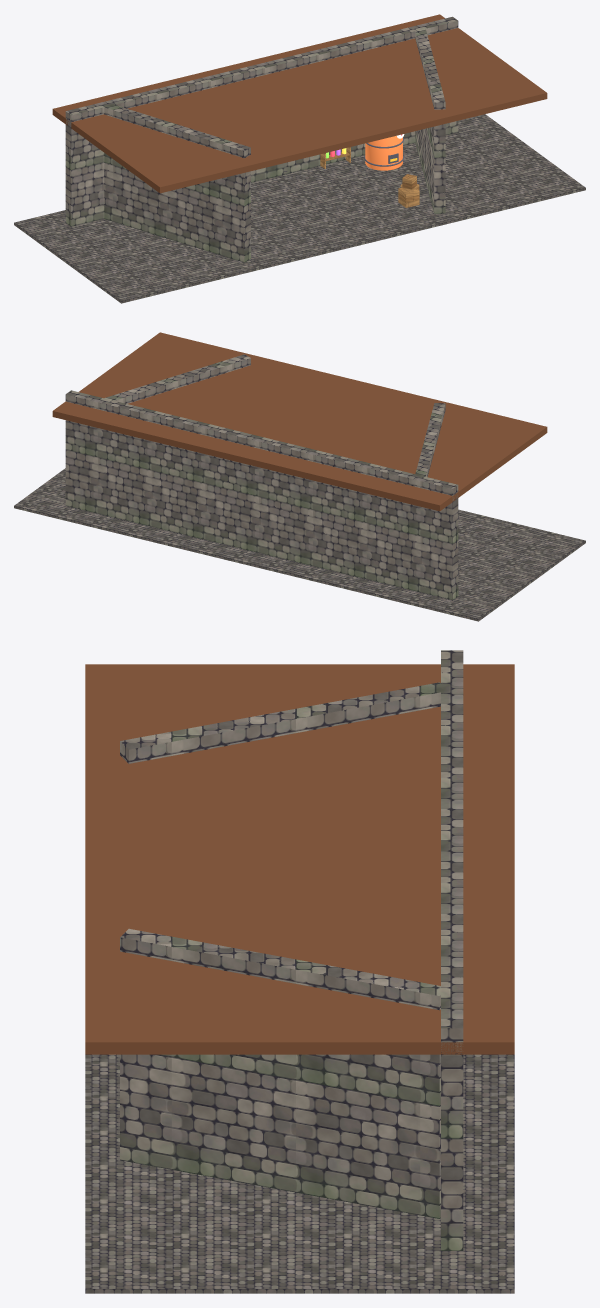
File: keller.glb
3 views of the same model, one above another, from view 1: azimuth 30°, elevation 25°; view 2: azimuth 150°, elevation 25°; view 3: azimuth 270°, elevation 25° (orthographic). The views are drawn at different scales.
Parts seen in each view (by area): view 1: K_Decke.002, K_Boden.002, K_SeitenwandL.001, K_Rueckwand.001, K_SeitenwandR.001, K_Kessel.001, K_Kiste0.001; view 2: K_Rueckwand.001, K_Decke.002, K_Boden.002, K_SeitenwandR.001, K_SeitenwandL.001; view 3: K_Decke.002, K_Boden.002, K_SeitenwandR.001, K_Rueckwand.001, K_SeitenwandL.001.
Boxes of the visible parts, x1,y1,x2,y2 form: K_Decke.002: (52,14,547,193); K_Boden.002: (14,114,585,303); K_SeitenwandL.001: (104,104,250,262); K_Rueckwand.001: (65,16,458,226); K_SeitenwandR.001: (415,29,445,213); K_Kessel.001: (365,136,402,170); K_Kiste0.001: (398,187,419,207); K_Rueckwand.001: (65,390,458,600); K_Decke.002: (52,332,547,511); K_Boden.002: (14,468,585,621); K_SeitenwandR.001: (104,354,250,403); K_SeitenwandL.001: (415,403,445,477); K_Decke.002: (85,664,514,1054); K_Boden.002: (85,1054,514,1293); K_SeitenwandR.001: (120,928,447,1218); K_Rueckwand.001: (441,650,463,1250); K_SeitenwandL.001: (120,682,442,763).
Size of the model in its own units: 24 by 5.62 by 9.6.
Materials: 27 (3 with a texture image).
